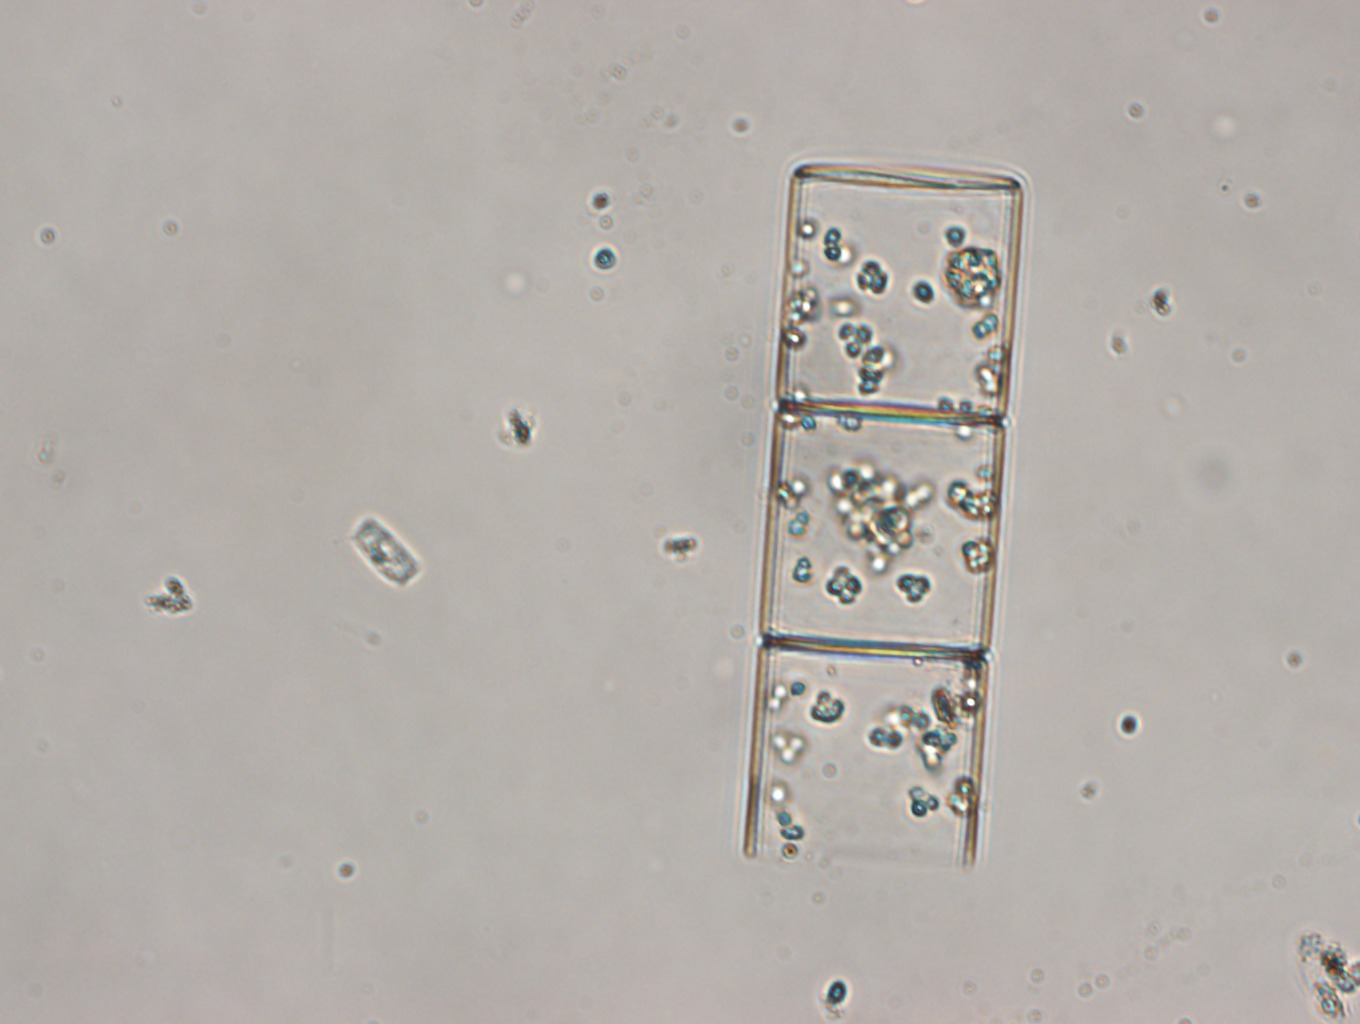guinardia flaccida: (740, 153, 1028, 874)
